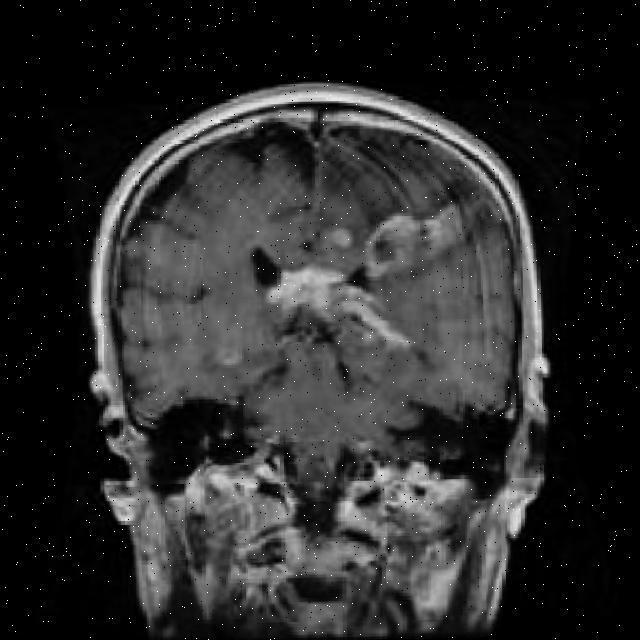LMCI: (281, 248, 355, 346), (366, 212, 441, 286)
